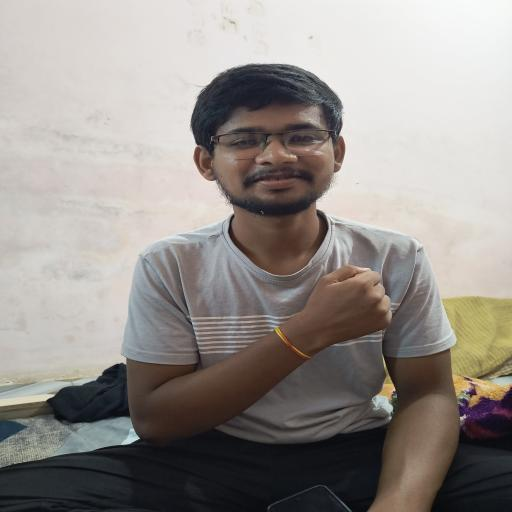Understood: (96, 219, 411, 451)
